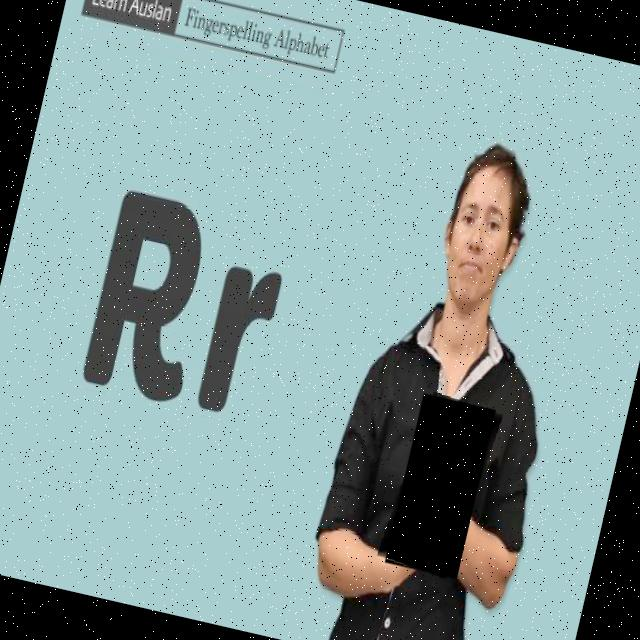R: (381, 391, 501, 582)
